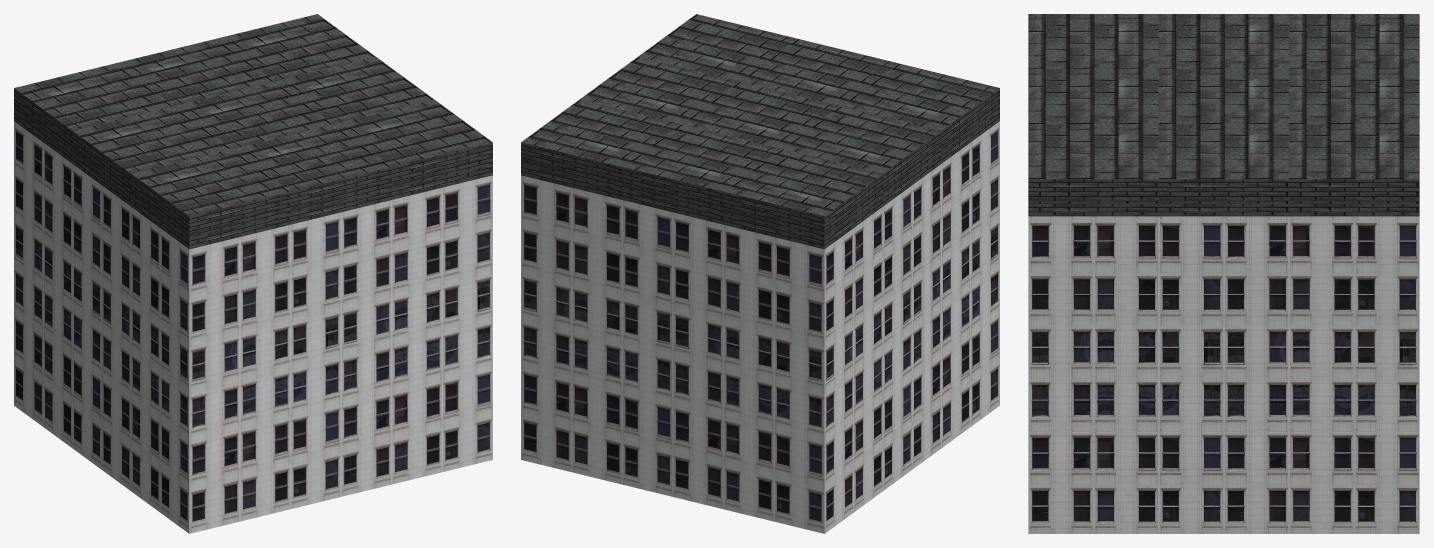
Rendered from 6_Storey_Building_White 1.FBX.
3 views of the same model, side by side, from view 1: azimuth 30°, elevation 25°; view 2: azimuth 150°, elevation 25°; view 3: azimuth 270°, elevation 25° (orthographic). The views are drawn at different scales.
Parts seen in each view (by area): view 1: Box004; view 2: Box004; view 3: Box004.
Part boxes in pixels (bbox=[...]): Box004: bbox=[14, 14, 492, 533]; Box004: bbox=[521, 14, 999, 533]; Box004: bbox=[1028, 14, 1419, 533].
Size of the model in its own units: 35 by 35 by 35.
Materials: 2 (2 with a texture image).
